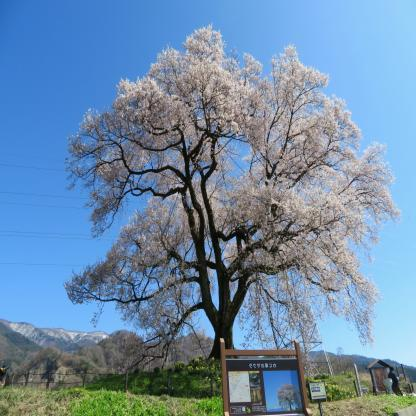EdohiganSakura: (63, 20, 402, 348)
